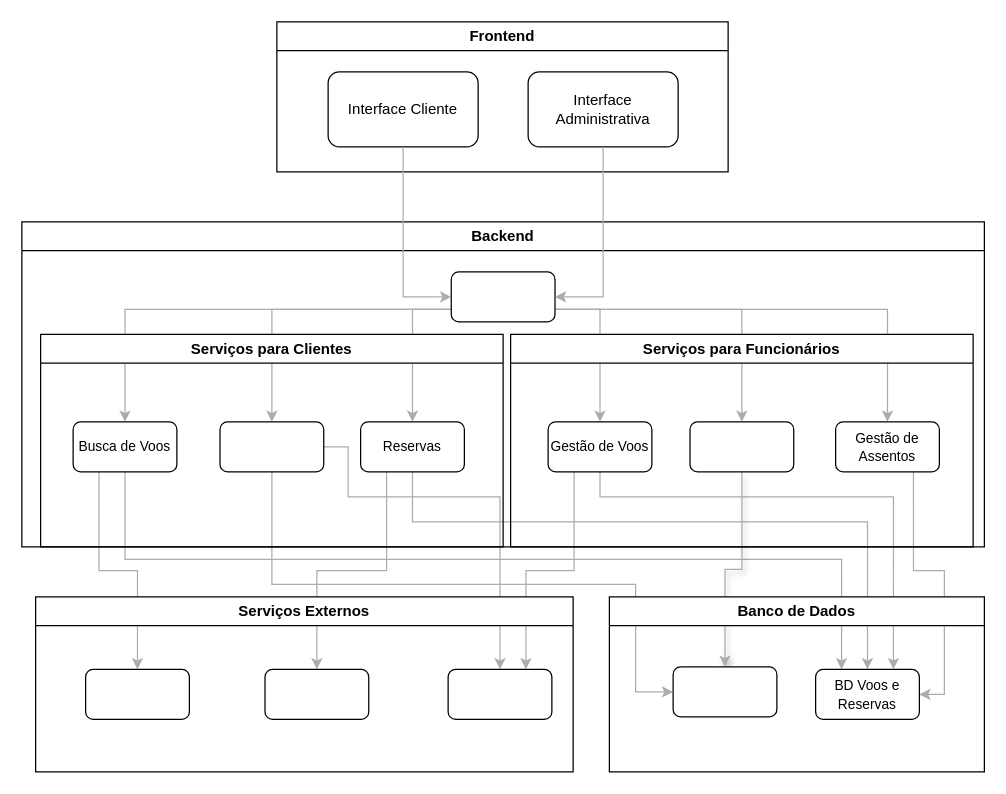
Image size: 1006x794. Some labels were removed from this diagram. Each missing label, with the centre of its shape:
"API de Email" belongs at (x=499, y=693).
"API de Geolocalização" belongs at (x=136, y=693).
"API de Pagamentos" belongs at (x=316, y=693).
"API Gateway" belongs at (x=502, y=296).
"BD Clientes" belongs at (x=724, y=691).
"Gestão de Cleintes" belongs at (x=741, y=446).
"Perfil Cliente" belongs at (x=271, y=446).
